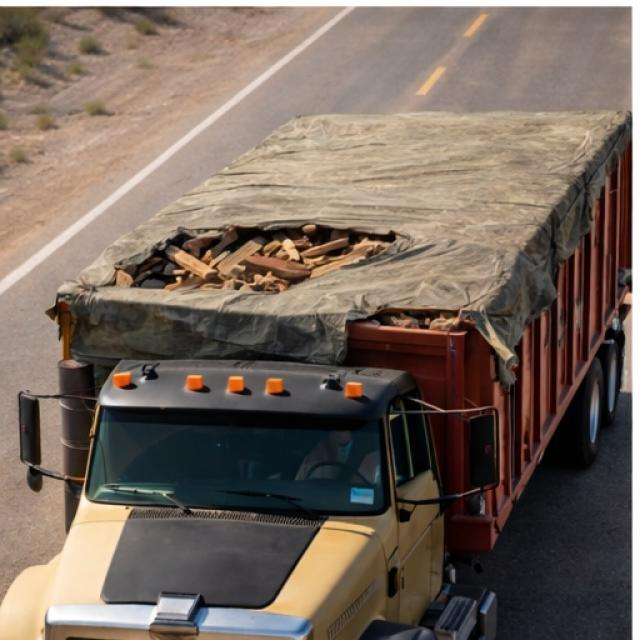trailer: (38, 108, 628, 328)
truck: (0, 81, 630, 640)
